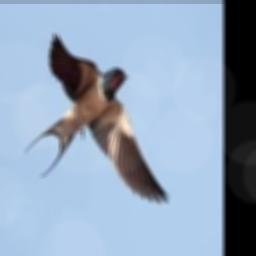Swallow: (24, 32, 171, 202)
